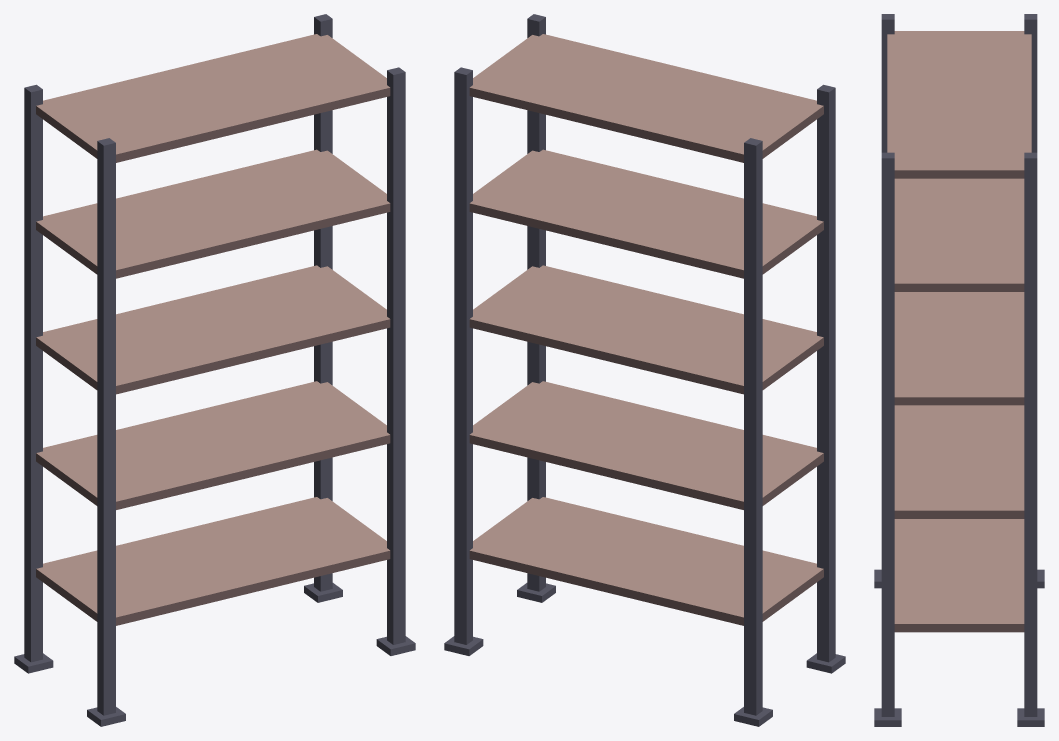
File: rack.glb
The picture shows the model from 3 angles, left to right: view 1: azimuth 30°, elevation 25°; view 2: azimuth 150°, elevation 25°; view 3: azimuth 270°, elevation 25°; orthographic projection. The views are drawn at different scales.
Visible parts, largest first — view 1: rack; view 2: rack; view 3: rack.
Boxes of the visible parts, bbox=[...] form: rack: bbox=[14, 14, 415, 726]; rack: bbox=[444, 14, 845, 726]; rack: bbox=[874, 14, 1044, 726].
Size of the model in its own units: 1.52 by 2.66 by 0.7262.
